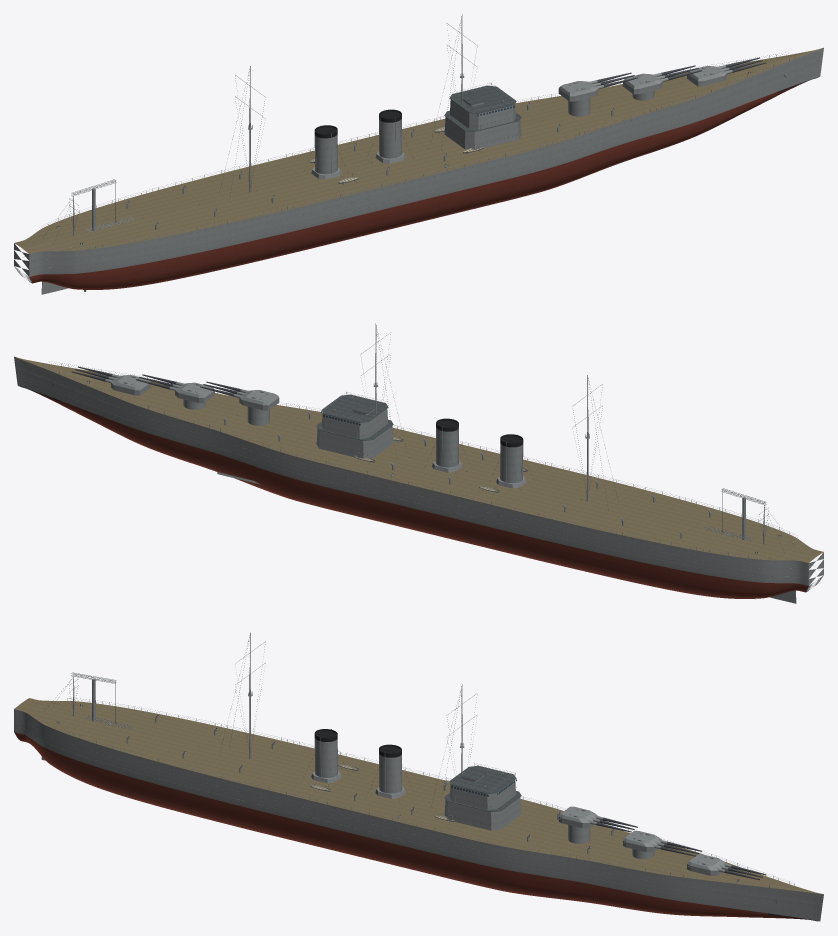
File: insuperable_bc27.glb
3 renders of one model, top to bottom at view 1: azimuth 30°, elevation 25°; view 2: azimuth 150°, elevation 25°; view 3: azimuth 330°, elevation 25°, orthographic.
Visible parts, largest first — view 1: Insuperable class; view 2: Insuperable class; view 3: Insuperable class.
Boxes of the visible parts, x1=… form: Insuperable class: x1=14, y1=14, x2=823, y2=294; Insuperable class: x1=14, y1=323, x2=823, y2=603; Insuperable class: x1=14, y1=632, x2=823, y2=921.
Bounding box in the file's own units: 275 × 59.08 × 32.39.
9 materials, 8 textured.
